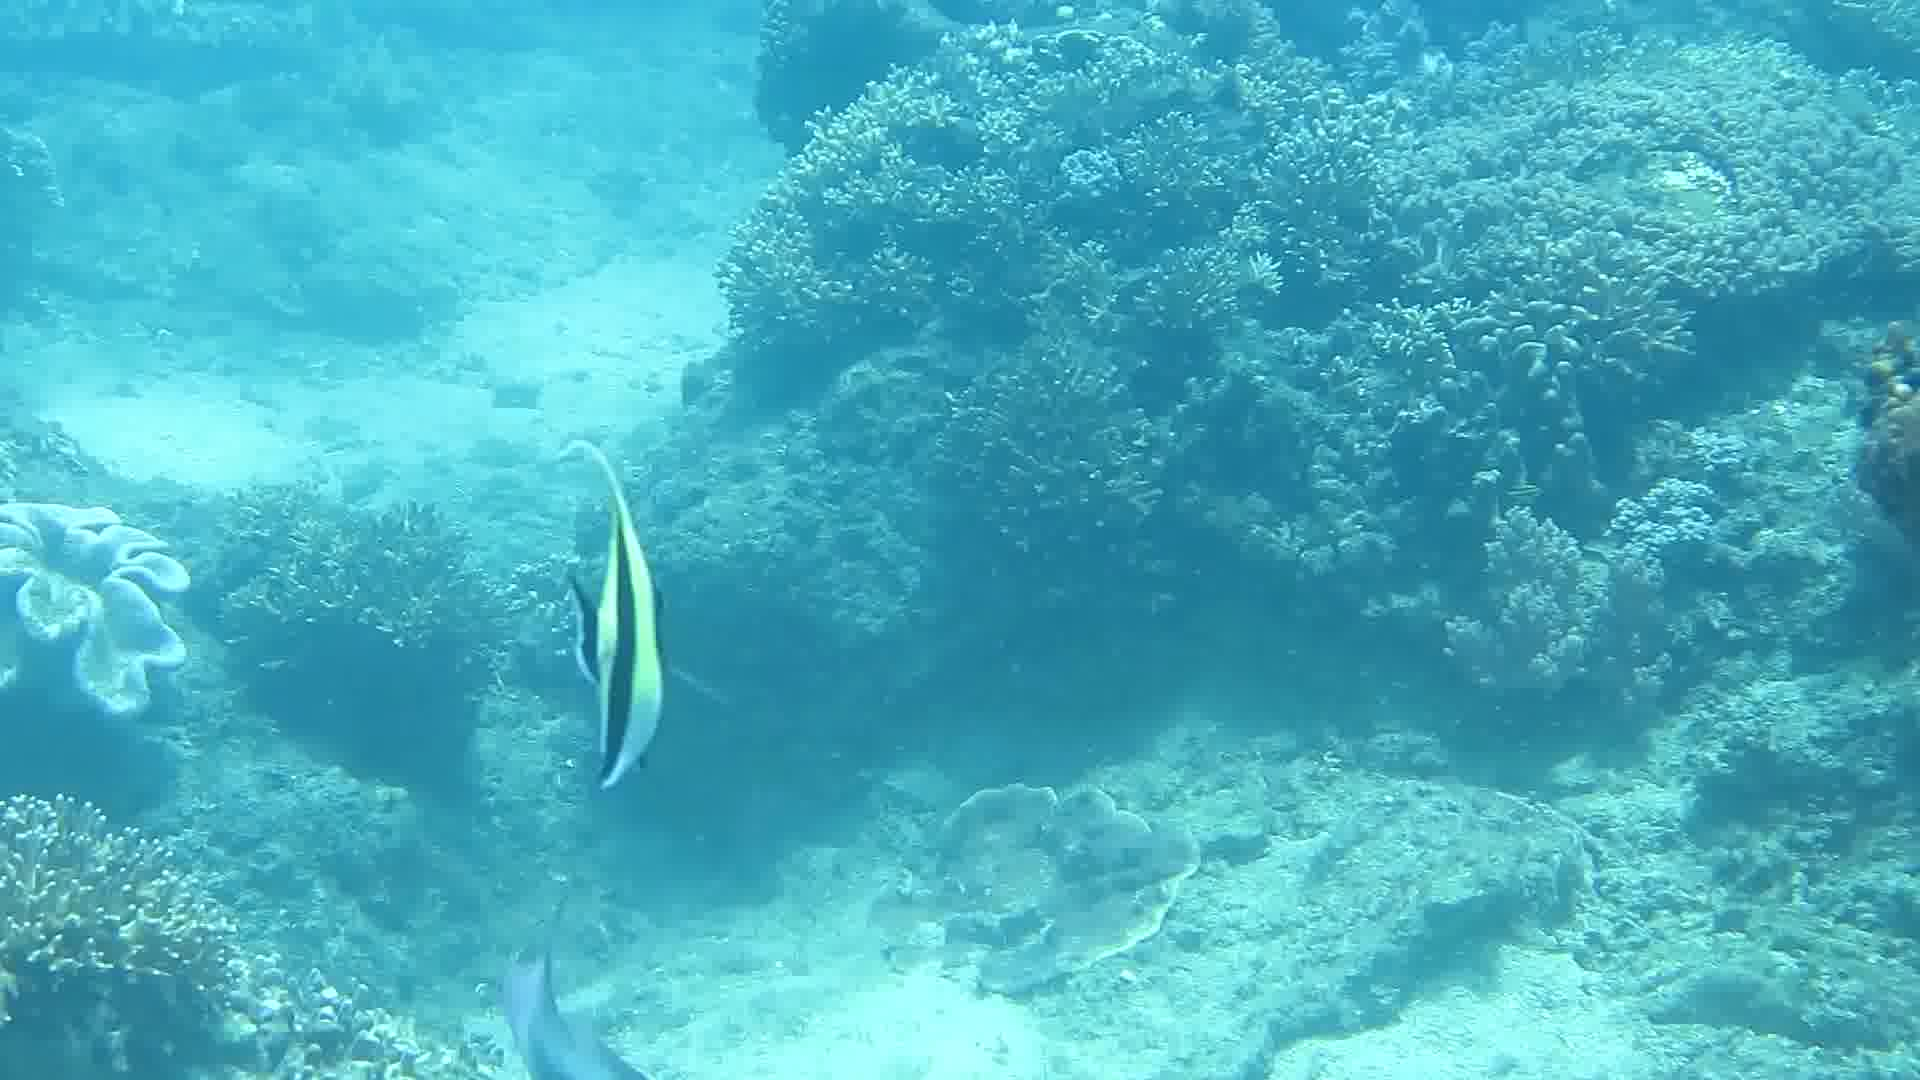Zanclus cornutus: (521, 443, 746, 800)
